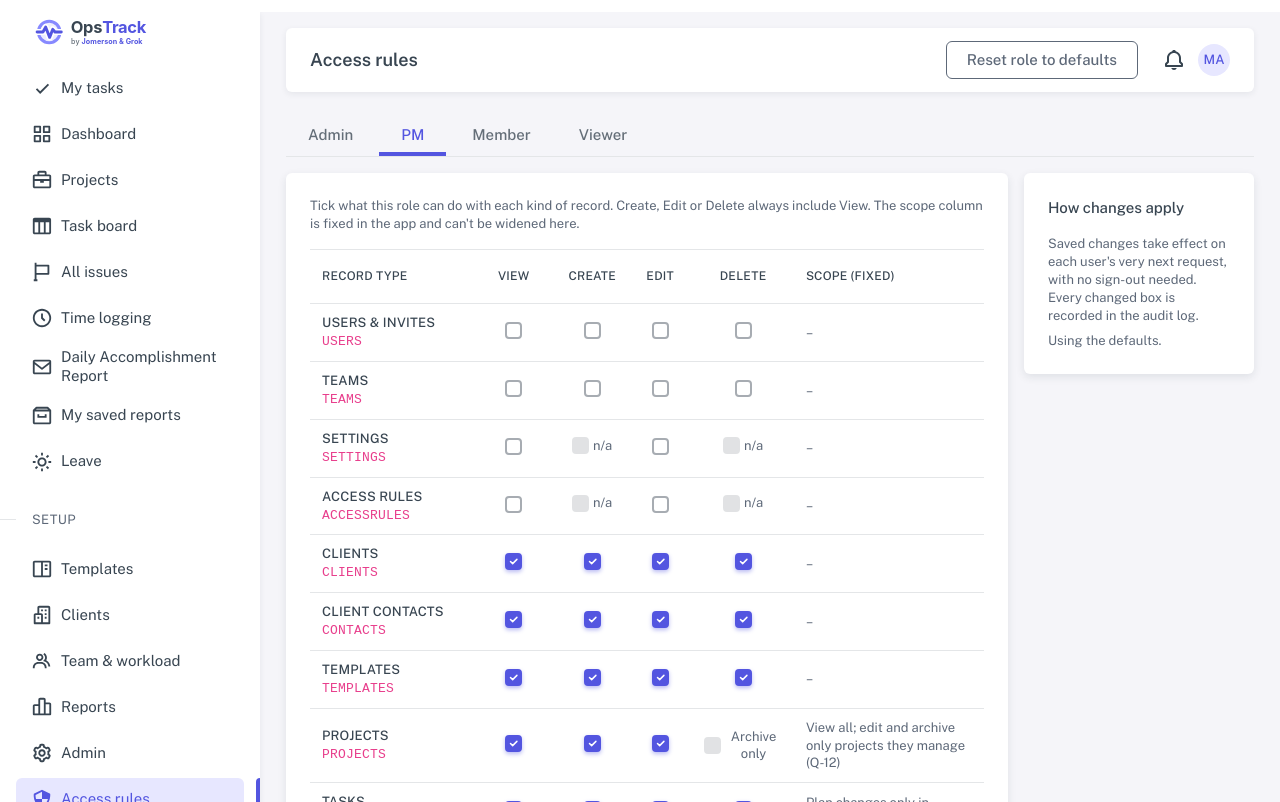
Test: Access rules screen (doc 11, mockup v0.5.2) › shows role tabs, the PM grid by default, n/a cells and the fixed scope column
Check: the text "accessRules" is shown, box [322,508,410,522]
Check: the checkbox named "View Clients" is checked, box [505,553,522,570]
Click the tab "Member": (502, 136) [450,116,553,156]
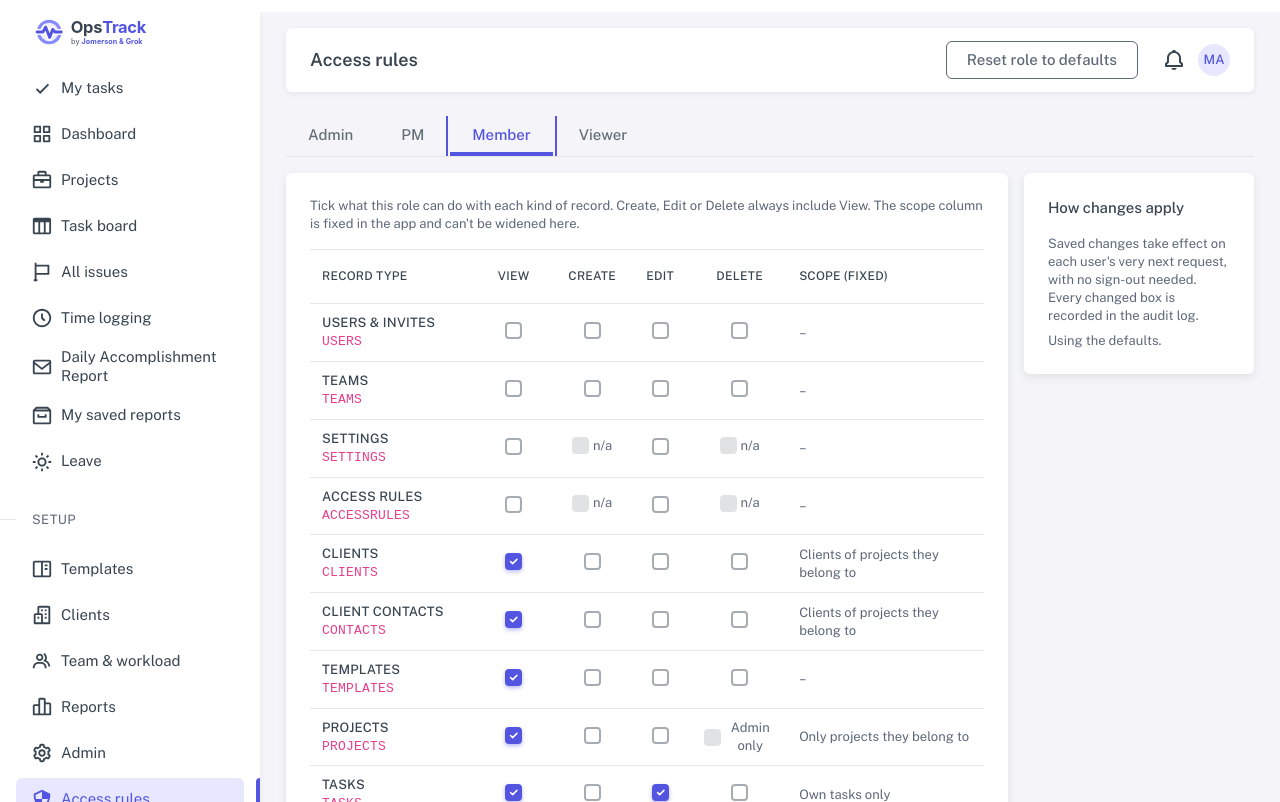
Check: the checkbox named "Delete Projects (Admin only)" is disabled, box [704,728,721,746]
Check: the text "Only projects they belong to" is shown, box [787,708,984,766]
